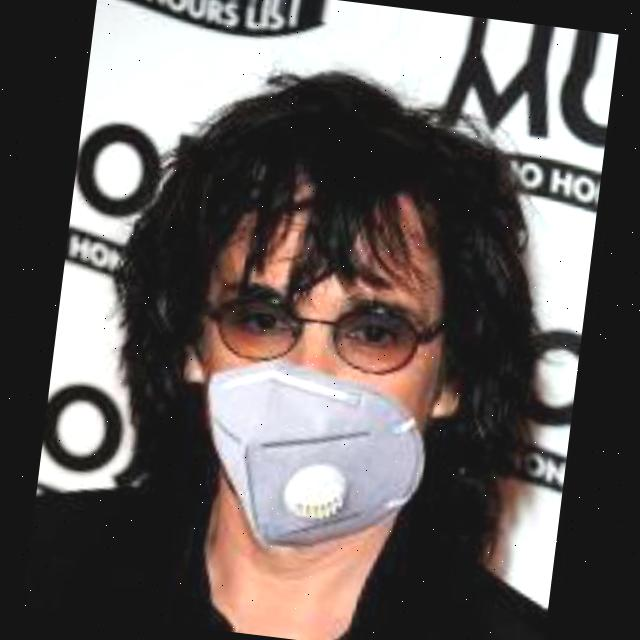suspicion: (135, 123, 527, 586)
